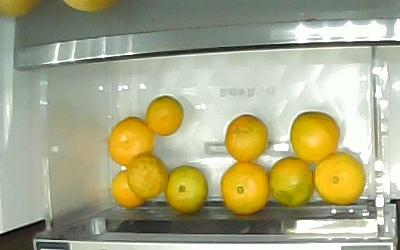tangerine: (311, 151, 366, 205), (288, 109, 339, 163), (219, 159, 268, 215), (106, 115, 156, 166), (267, 155, 315, 206), (163, 164, 208, 213), (223, 113, 268, 161), (125, 150, 169, 199), (144, 93, 184, 137), (110, 168, 145, 208)
